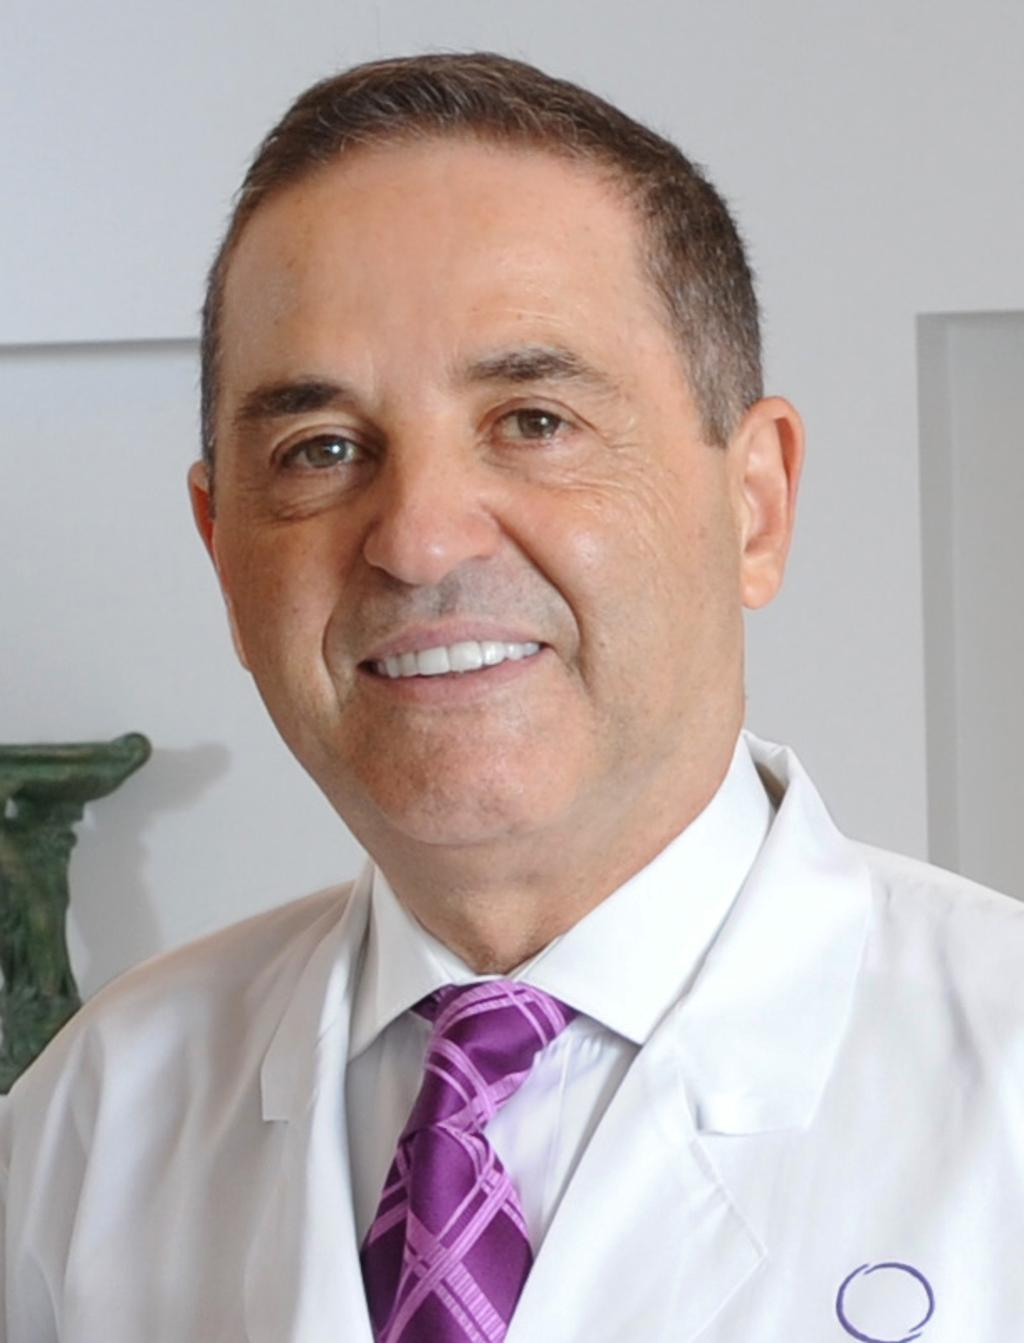face: (215, 147, 727, 840)
